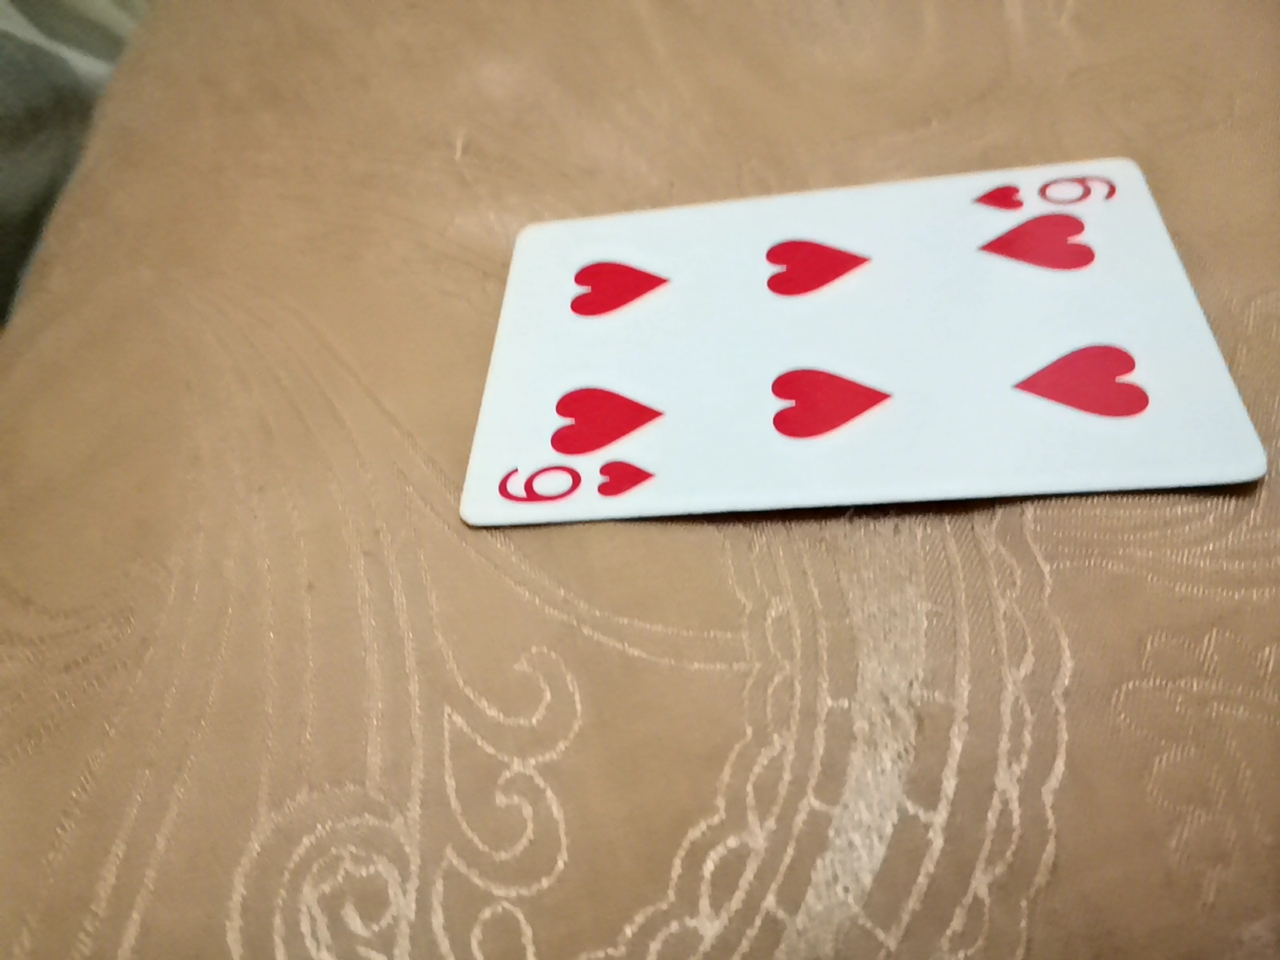hx 6: (497, 202, 1275, 529)
